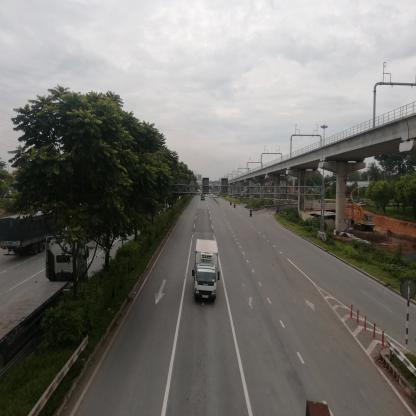car: (193, 239, 219, 306)
